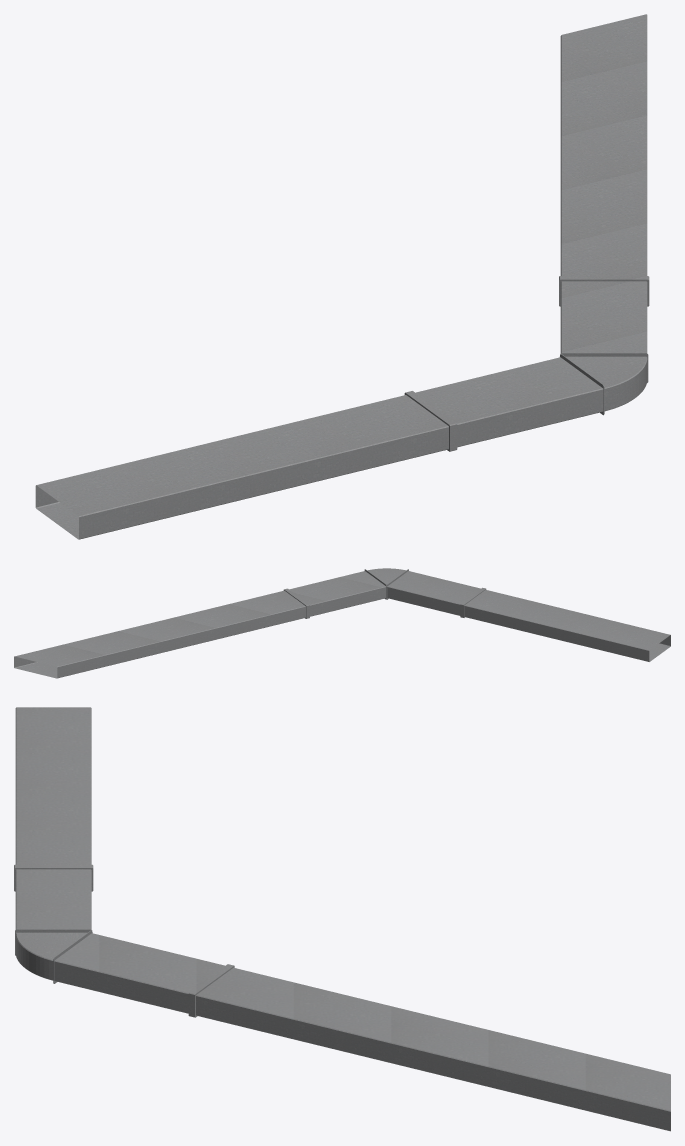
Rendered from AirCon1.fbx.
3 views of the same model, one above another, from view 1: azimuth 30°, elevation 25°; view 2: azimuth 150°, elevation 25°; view 3: azimuth 270°, elevation 25° (orthographic). The views are drawn at different scales.
Visible parts, largest first — view 1: Empty_Mesh; view 2: Empty_Mesh; view 3: Empty_Mesh.
Boxes of the visible parts, left/top/right/bottom form: Empty_Mesh: left=35, top=14, right=649, bottom=539; Empty_Mesh: left=14, top=568, right=670, bottom=678; Empty_Mesh: left=14, top=707, right=670, bottom=1131.
Bounding box in the file's own units: 981 × 30.03 × 675.
